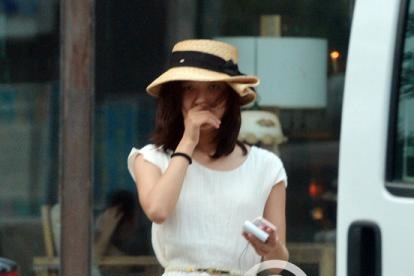face: (182, 82, 226, 127)
